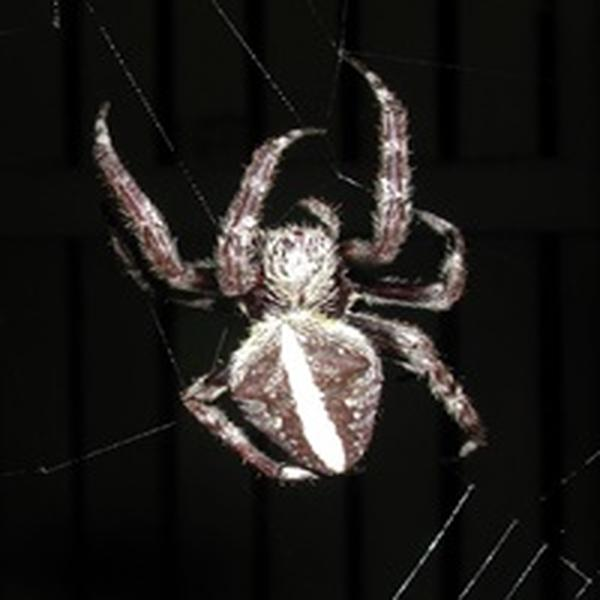Garden Orb Weaver Spider: (91, 77, 485, 476)
